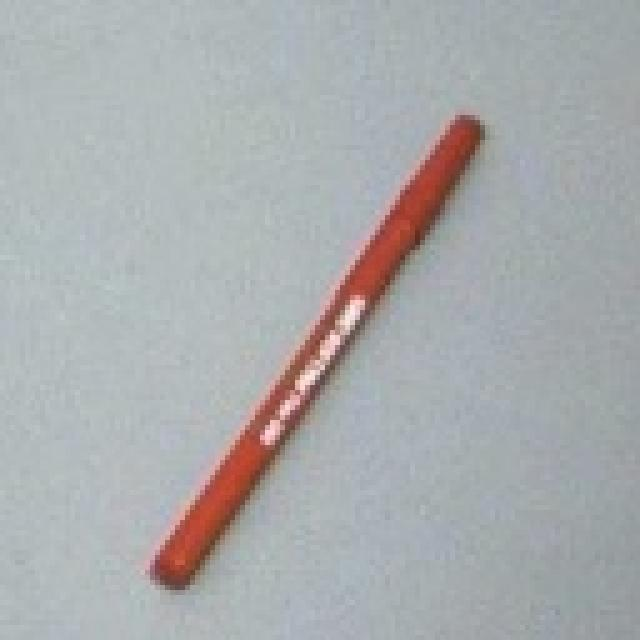pen: (130, 104, 498, 606)
